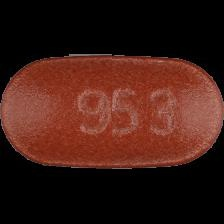63629-4367: (0, 0, 224, 224)
